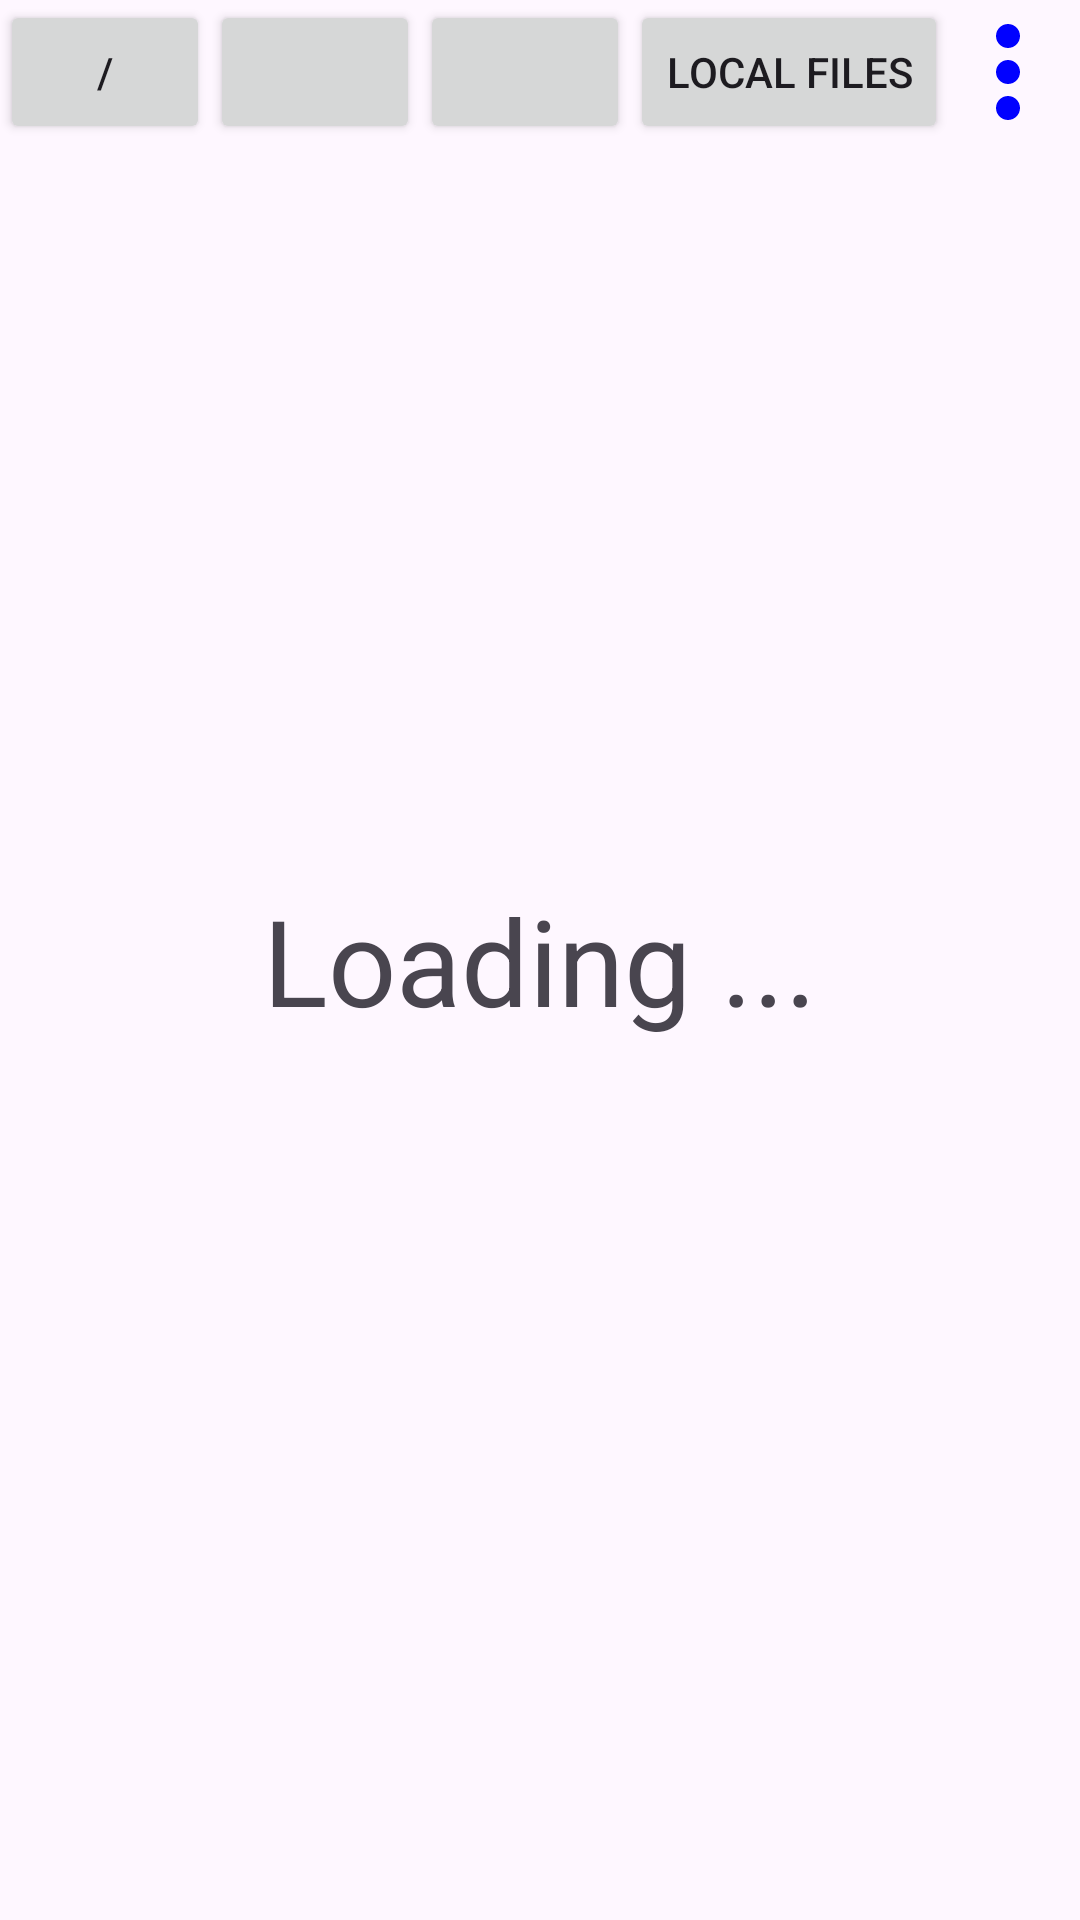

Named icons in this screenshot (1080px x 1920px) and their centers, (x=x, y=y):
more vert: (x=1008, y=72)
